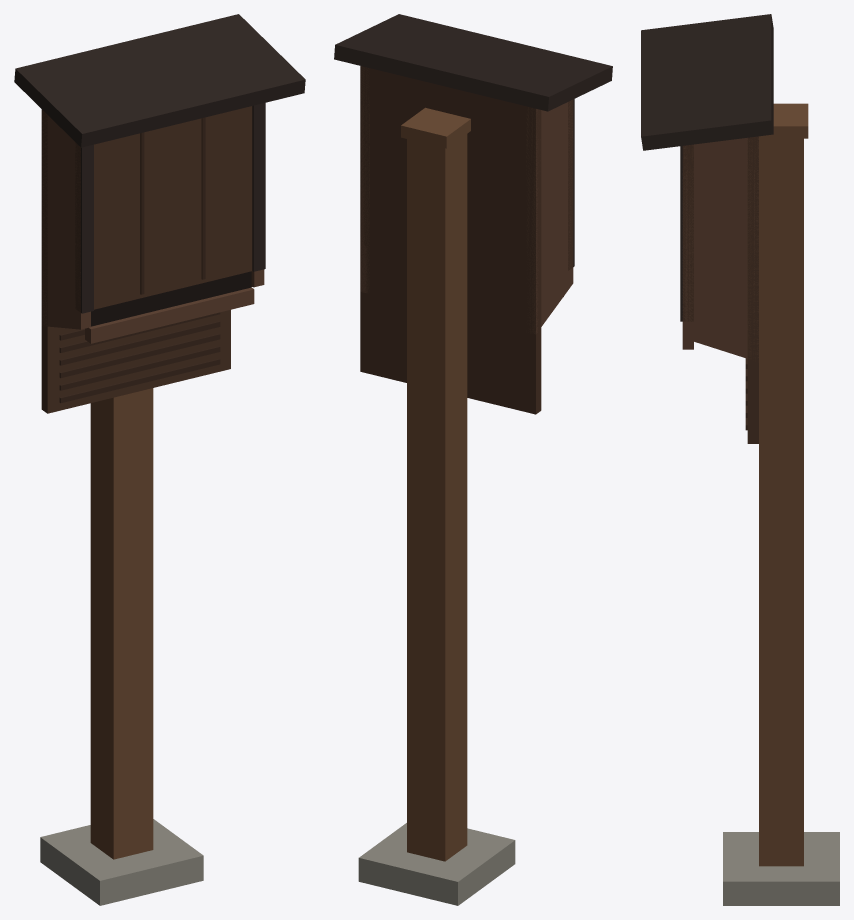
Rendered from bat-house.glb.
3 views of the same model, side by side, from view 1: azimuth 30°, elevation 25°; view 2: azimuth 150°, elevation 25°; view 3: azimuth 270°, elevation 25° (orthographic). The views are drawn at different scales.
Parts seen in each view (by area): view 1: bat-house; view 2: bat-house; view 3: bat-house.
Part boxes in pixels (box(x1,y1,x2,y2)): bat-house: box(14, 14, 305, 905); bat-house: box(334, 14, 612, 905); bat-house: box(641, 14, 839, 905).
Size of the model in its own units: 0.5601 by 2 by 0.4423.
